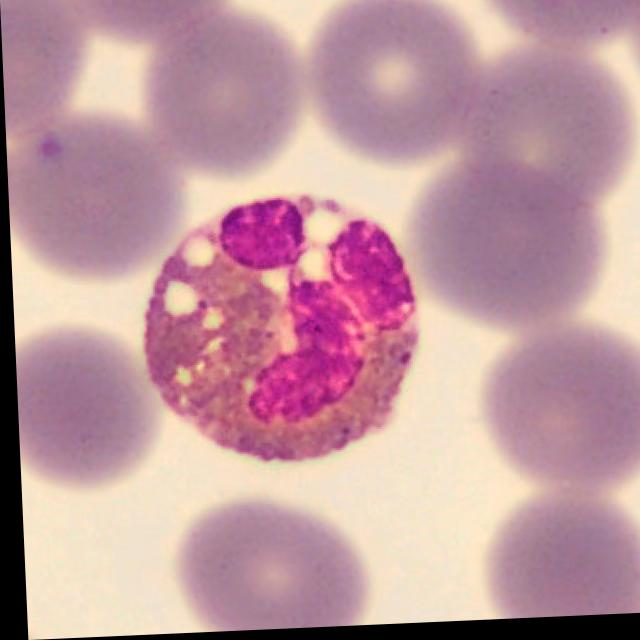Eosinofilo: (139, 196, 416, 467)
